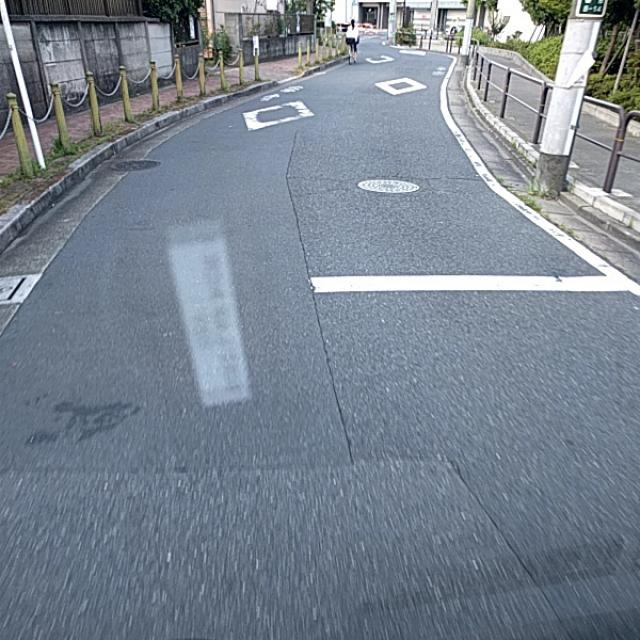pothole: (304, 314, 364, 439)
